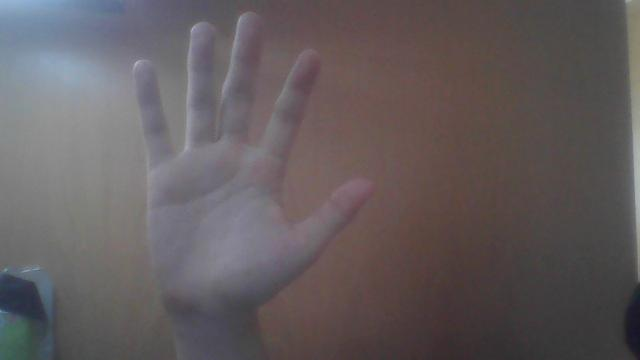Stop: (130, 5, 372, 312)
